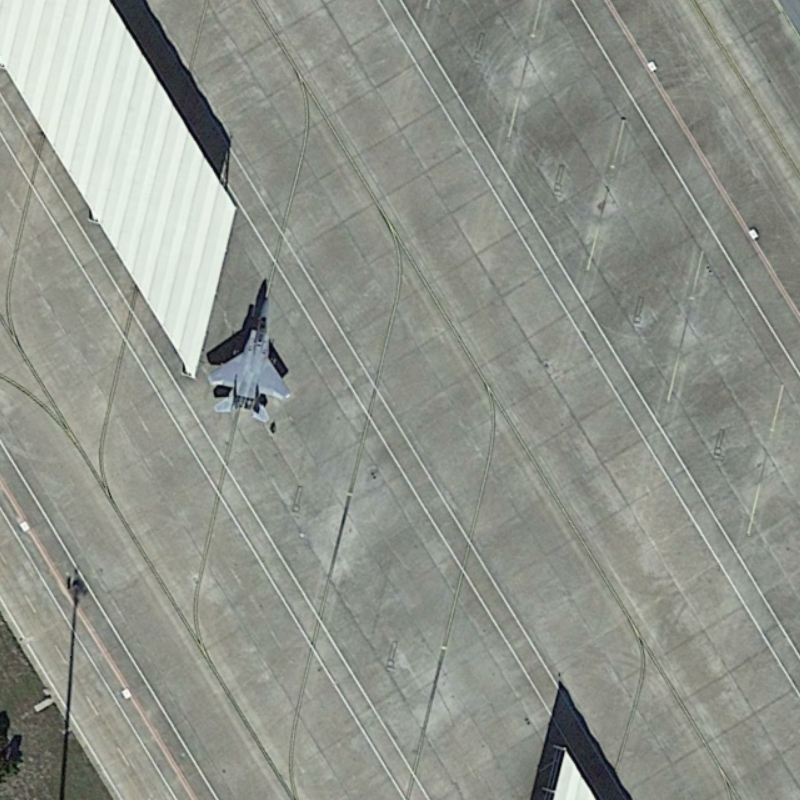A13: (199, 292, 299, 427)
